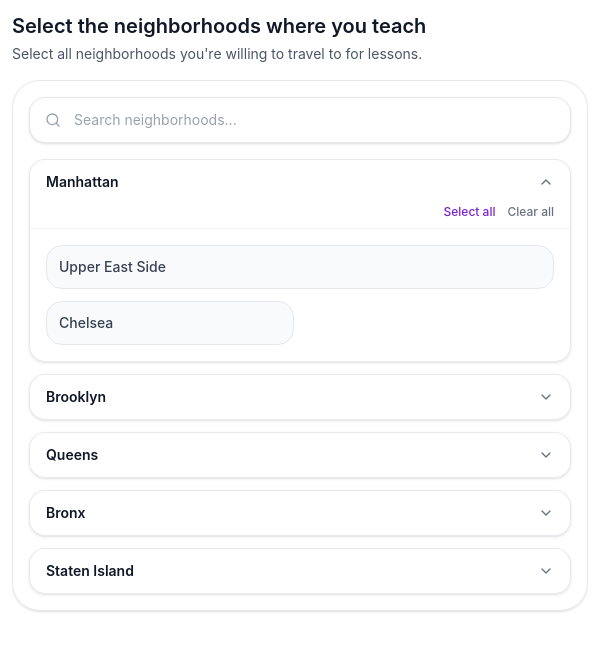
Scenario: NeighborhoodSelector › matches hidden-subarea aliases like Baisley Park
Type "Baisley Park" into the field with test id "neighborhood-search-input" at (300, 120), box x1=29 y1=97 x2=571 y2=143
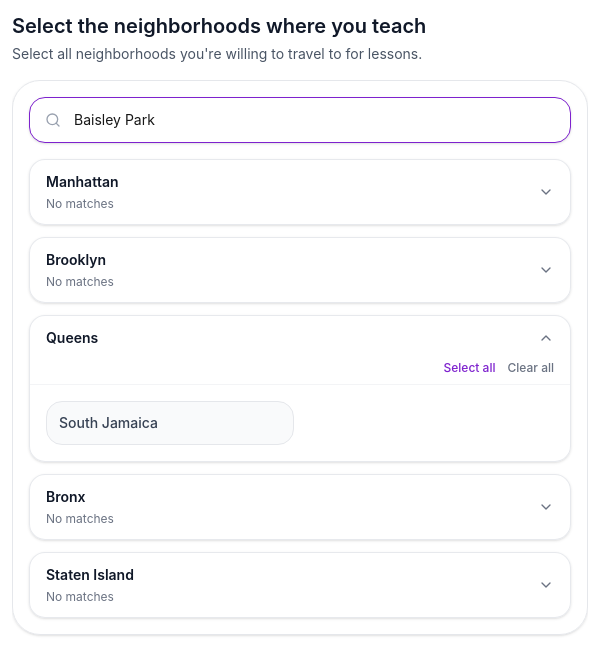
expect the text "South Jamaica" is shown: met, box x1=59 y1=413 x2=158 y2=433
expect the button with test id "neighborhood-borough-queens" is expanded: met, box x1=46 y1=328 x2=554 y2=348
